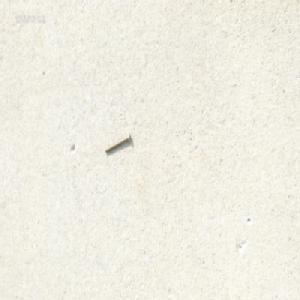Bolt: (103, 132, 130, 153)
